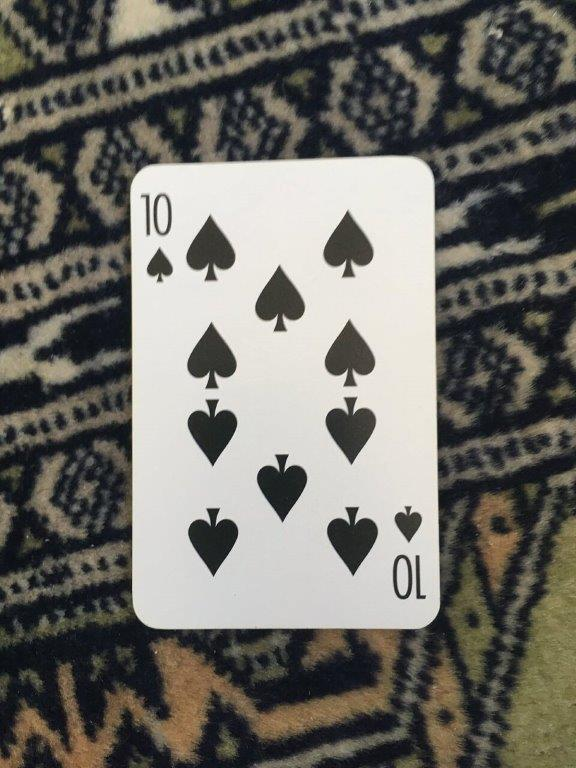10S: (126, 151, 444, 632)
